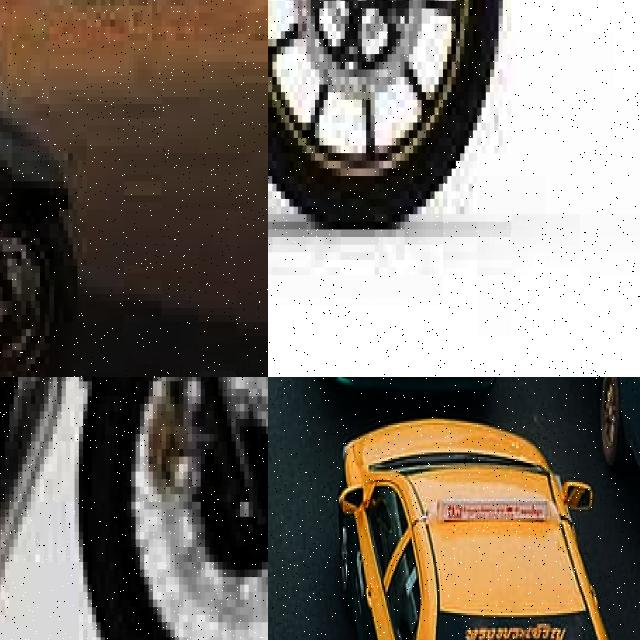bike: (0, 377, 268, 640), (268, 0, 507, 229), (0, 0, 101, 377)
car: (334, 420, 640, 640), (541, 377, 640, 514), (289, 377, 511, 395)
